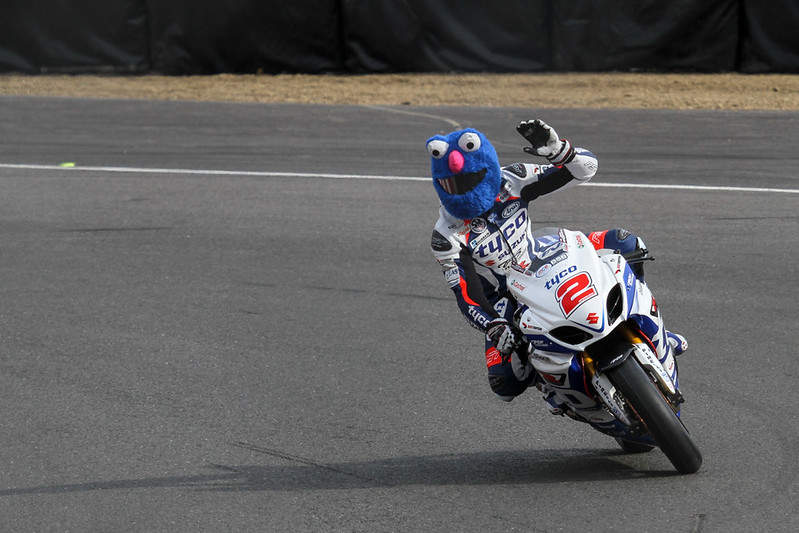helmet: (428, 132, 502, 216)
